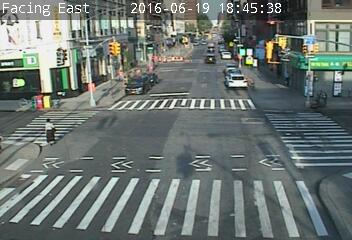neg: (257, 139, 276, 165), (252, 100, 271, 125), (116, 120, 135, 145), (153, 112, 171, 136), (203, 134, 220, 157), (210, 99, 222, 115)
pos: (36, 115, 60, 147), (282, 71, 295, 88)
